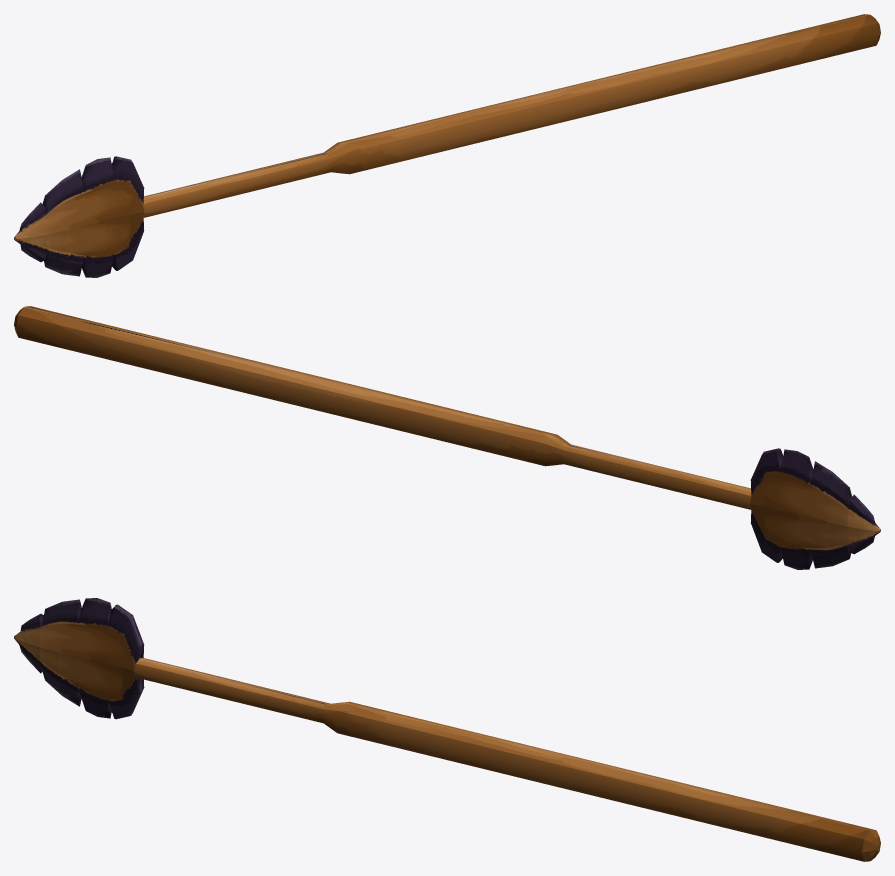
The model's file is Spear.obj.
3 renders of one model, top to bottom at view 1: azimuth 30°, elevation 25°; view 2: azimuth 150°, elevation 25°; view 3: azimuth 330°, elevation 25°, orthographic.
Parts seen in each view (by area): view 1: Spear; view 2: Spear; view 3: Spear.
Boxes of the visible parts, bbox=[...] form: Spear: bbox=[14, 14, 880, 277]; Spear: bbox=[14, 306, 880, 569]; Spear: bbox=[14, 598, 880, 861].
Bounding box in the file's own units: 22.63 × 2.97 × 0.7627.
Materials: 1 (1 with a texture image).
